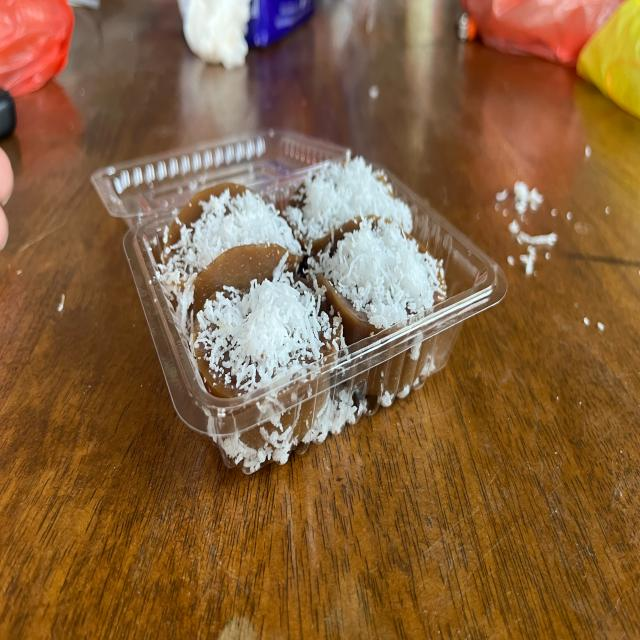Kuih lompang: (194, 256, 341, 398), (165, 184, 302, 318), (309, 218, 445, 344), (308, 218, 446, 331), (285, 158, 412, 256)
